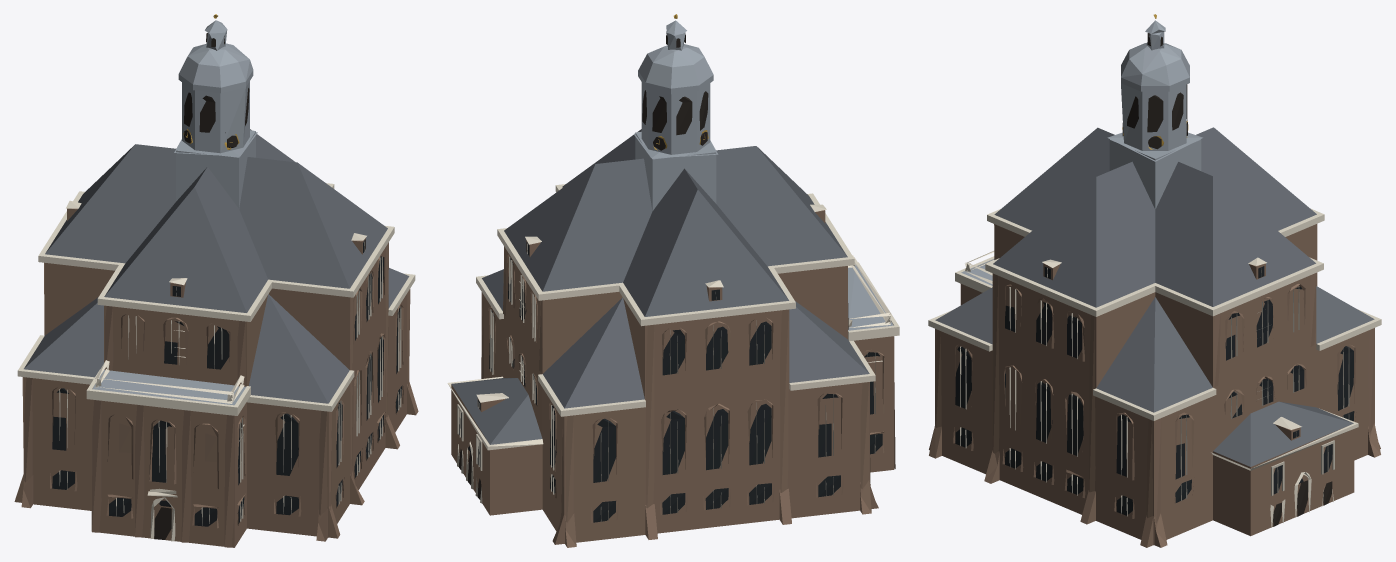
The model's file is oosterkerk.lod1.glb.
The picture shows the model from 3 angles, left to right: view 1: azimuth 30°, elevation 25°; view 2: azimuth 150°, elevation 25°; view 3: azimuth 270°, elevation 25°; orthographic projection. The views are drawn at different scales.
Visible parts, largest first — view 1: oosterkerk; view 2: oosterkerk; view 3: oosterkerk.
Part boxes in pixels (box(x1,y1,x2,y2)): oosterkerk: box(14, 14, 418, 547); oosterkerk: box(447, 14, 899, 547); oosterkerk: box(928, 14, 1381, 547).
Bounding box in the file's own units: 43.35 × 46.25 × 43.35.
